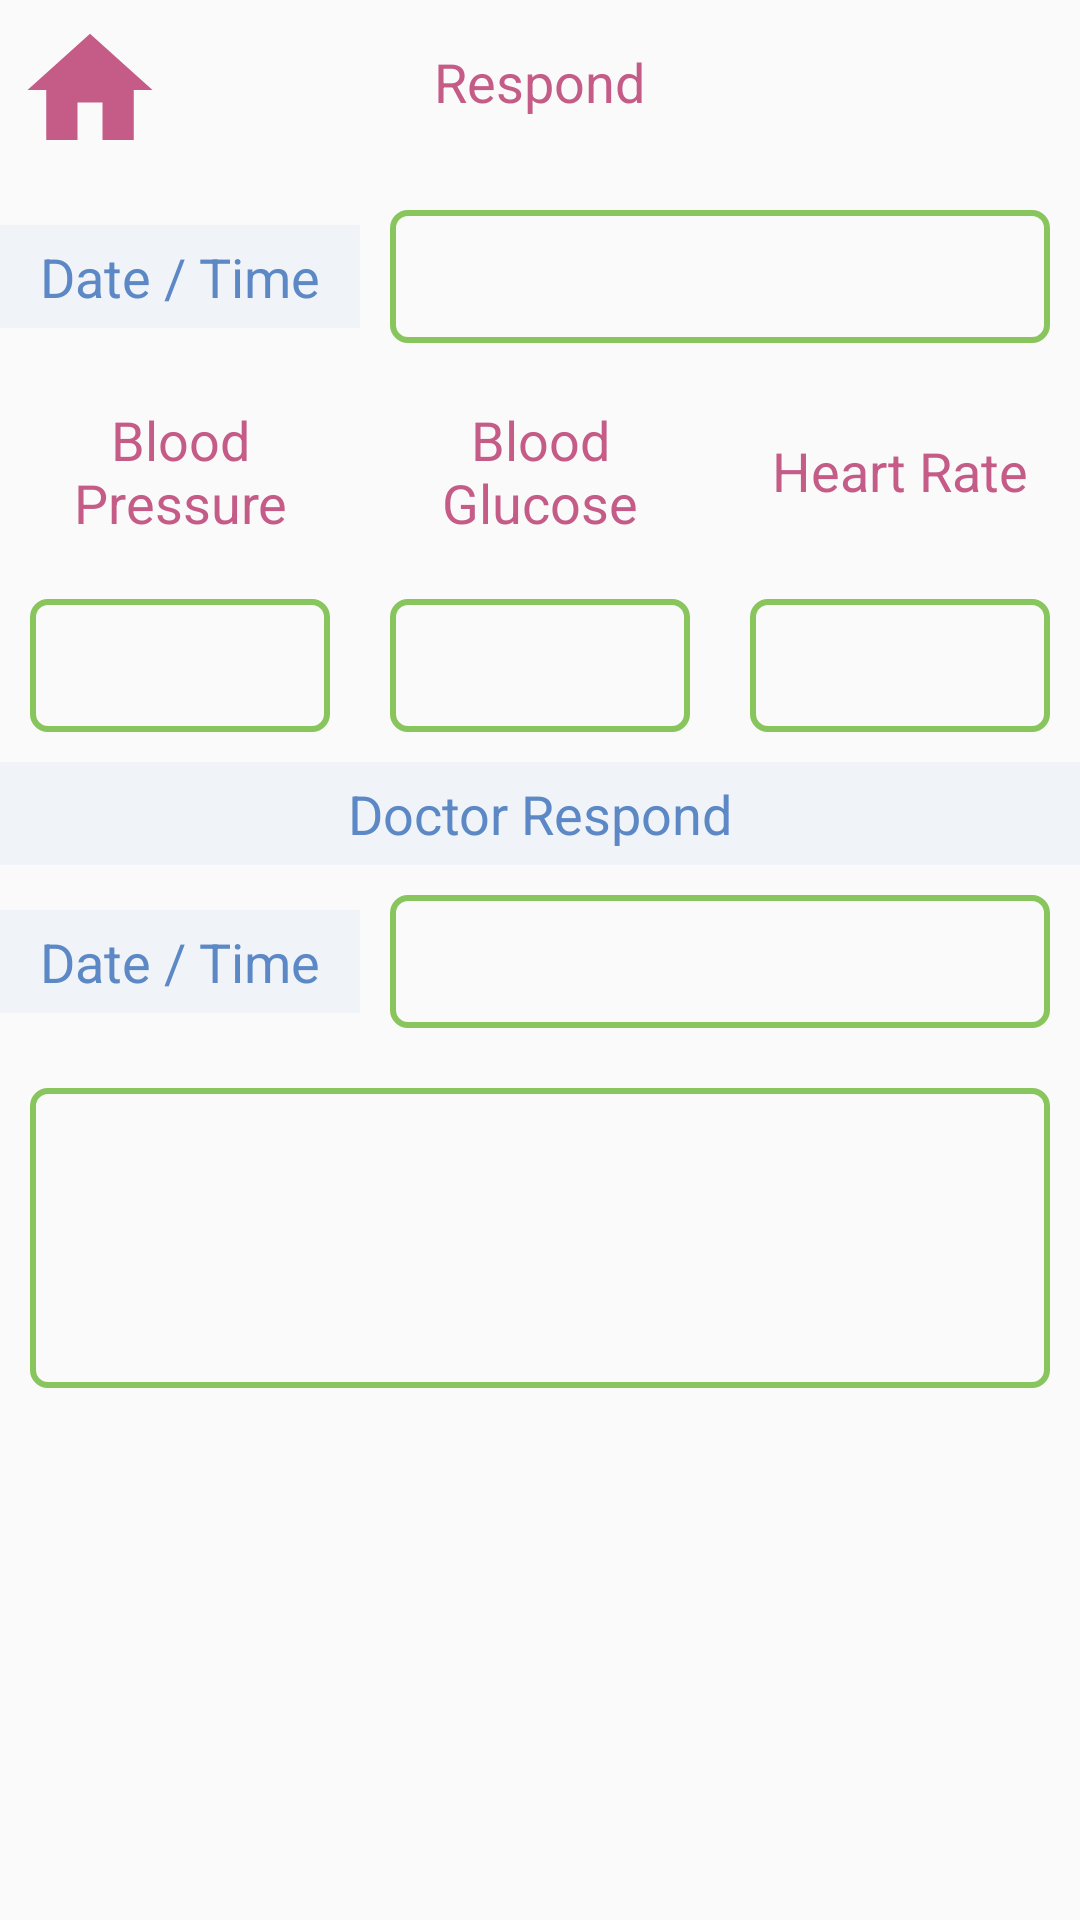

Icons on this 1080 × 1920 Android screen, each with the point to tap as point (x, y):
home page: point (90, 87)
